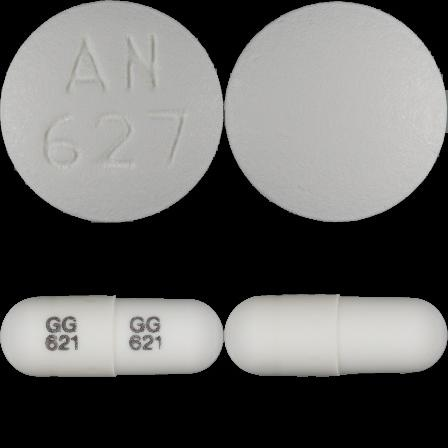0904-6119: (0, 0, 224, 224)
